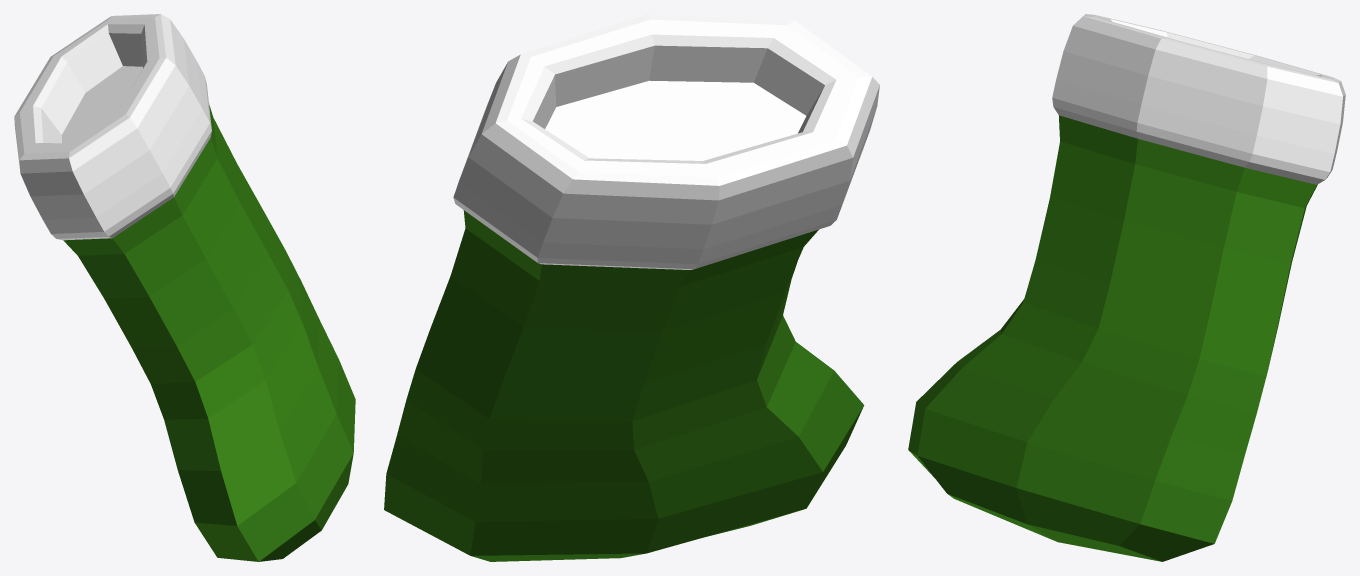
Rendered from findsocks1.gltf.
The picture shows the model from 3 angles, left to right: view 1: azimuth 30°, elevation 25°; view 2: azimuth 150°, elevation 25°; view 3: azimuth 270°, elevation 25°; orthographic projection. The views are drawn at different scales.
Visible parts, largest first — view 1: Cube.001_Cube.004, Cube.002_Cube.003; view 2: Cube.001_Cube.004, Cube.002_Cube.003; view 3: Cube.001_Cube.004, Cube.002_Cube.003.
Part boxes in pixels (x1,y1,x2,y2): Cube.001_Cube.004: [63, 104, 355, 561]; Cube.002_Cube.003: [14, 14, 211, 240]; Cube.001_Cube.004: [384, 210, 864, 561]; Cube.002_Cube.003: [453, 14, 879, 269]; Cube.001_Cube.004: [908, 115, 1317, 561]; Cube.002_Cube.003: [1052, 14, 1345, 184].
Bounding box in the file's own units: 2.98 × 3.89 × 3.29.
